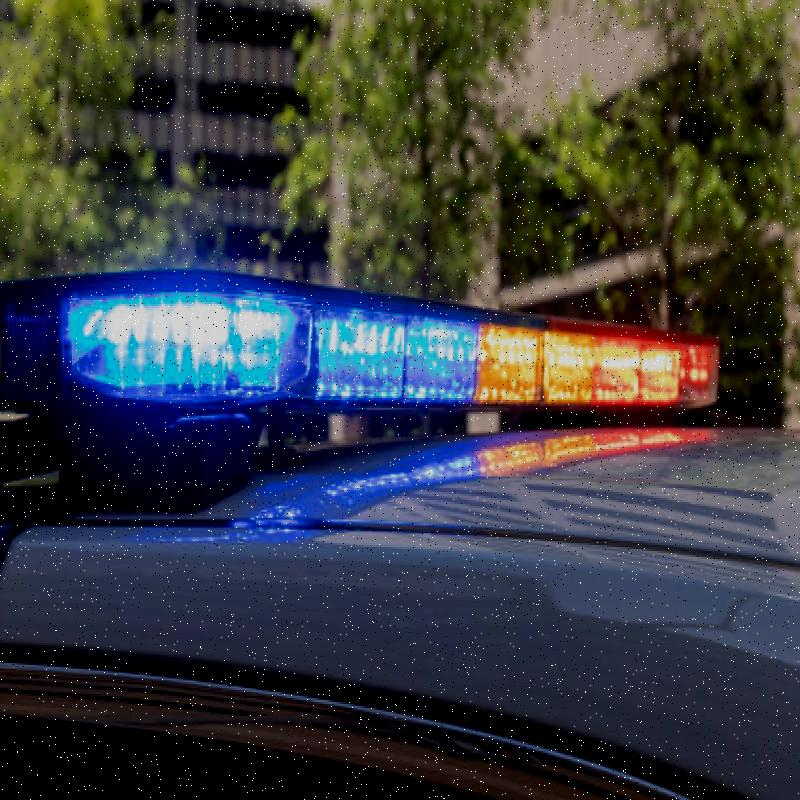AmbulanceSiren: (0, 272, 742, 496)
